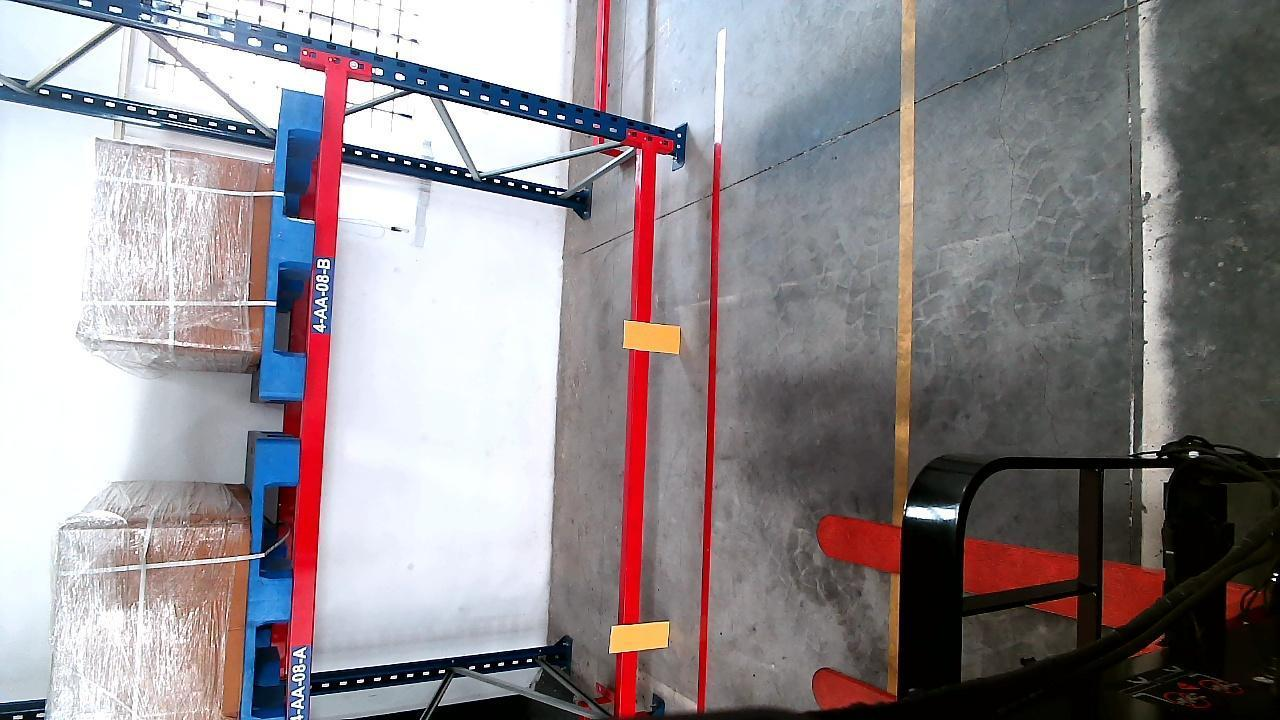h_rack: (288, 72, 348, 706), (616, 147, 659, 720)
orange_strip: (612, 620, 671, 653), (626, 320, 681, 352)
red_line: (697, 90, 726, 713)
small_pallet: (264, 85, 320, 401), (247, 437, 298, 720)
yellow_line: (892, 8, 919, 501)
